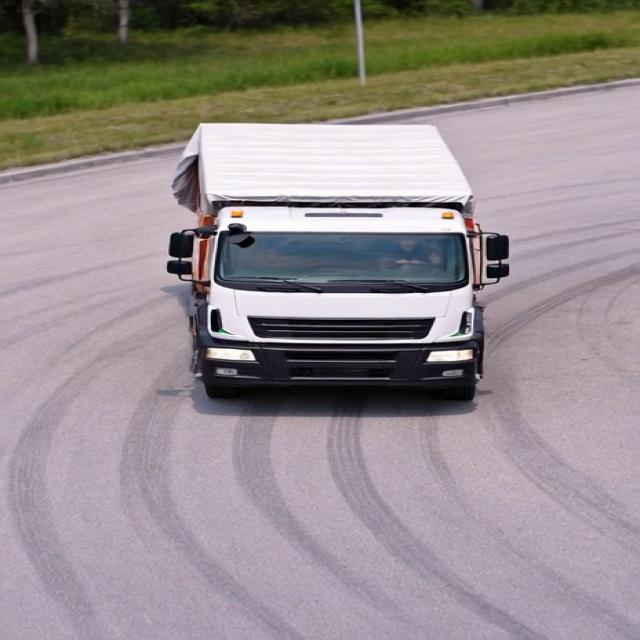Box: (181, 107, 475, 206)
Truck: (158, 100, 510, 400)
